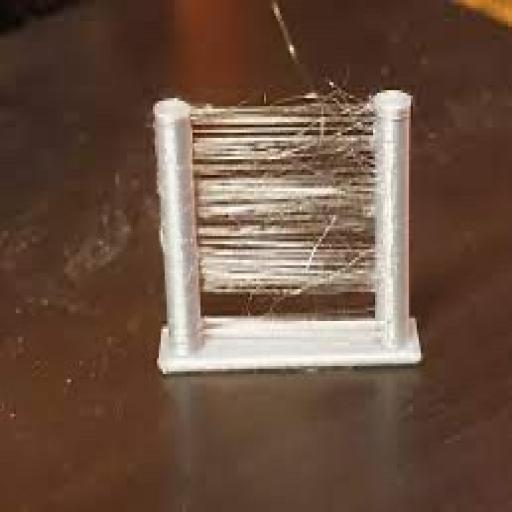stringing: (194, 102, 368, 304)
